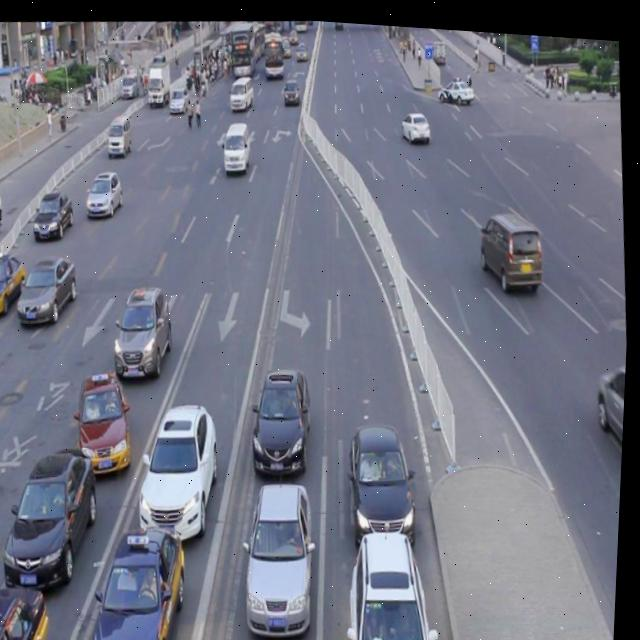car: (0, 437, 109, 596), (133, 392, 230, 543), (239, 469, 326, 637), (85, 512, 197, 640), (346, 514, 444, 640), (346, 410, 423, 542), (248, 356, 320, 475), (75, 364, 140, 478), (110, 276, 180, 380), (478, 200, 546, 290), (16, 248, 83, 326), (595, 351, 629, 460), (0, 578, 57, 640), (32, 186, 77, 240), (84, 166, 125, 217), (0, 248, 30, 316)
truck: (221, 116, 252, 169), (106, 111, 133, 156)
